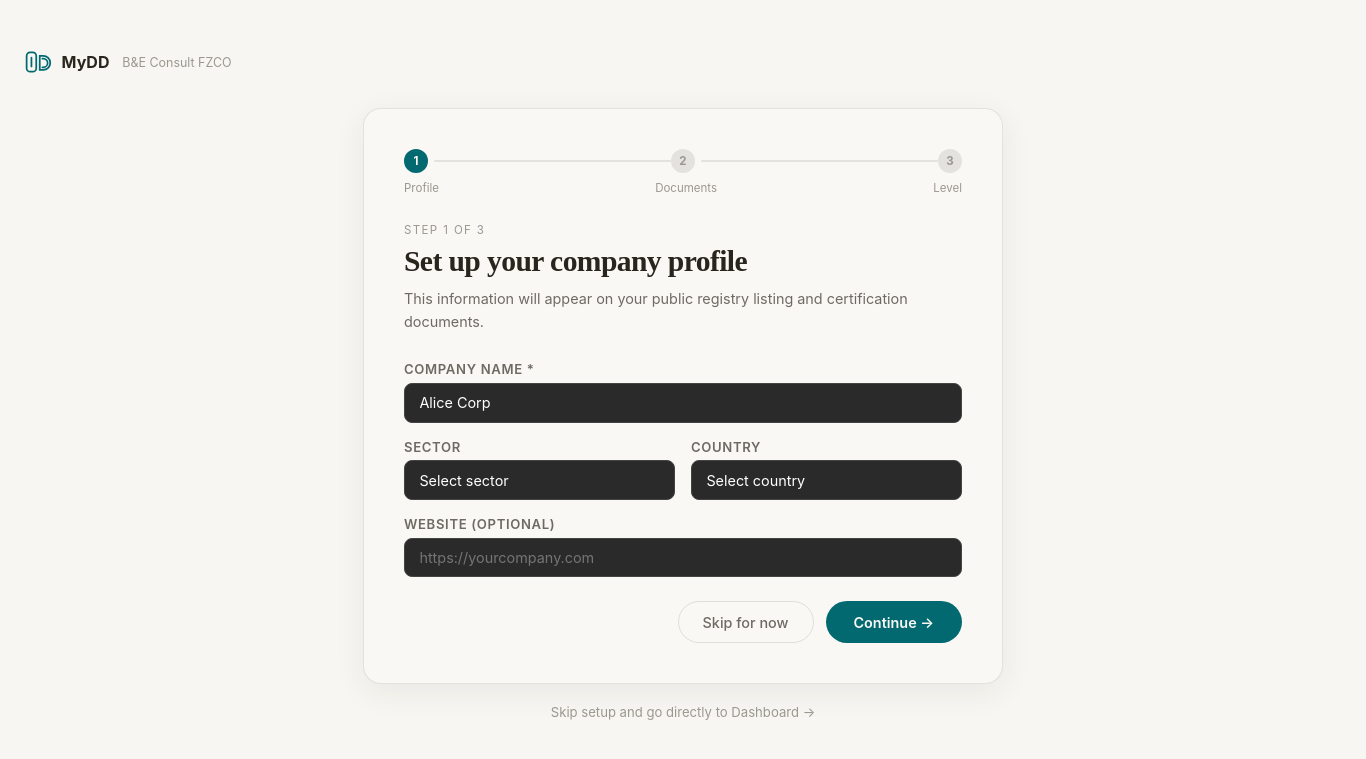
Test: Onboarding — Step 1: Profile › shows validation error when company name is empty
Clear name and click Continue
Clear the field with id "ob-name": (683,403) [404,383,962,423]
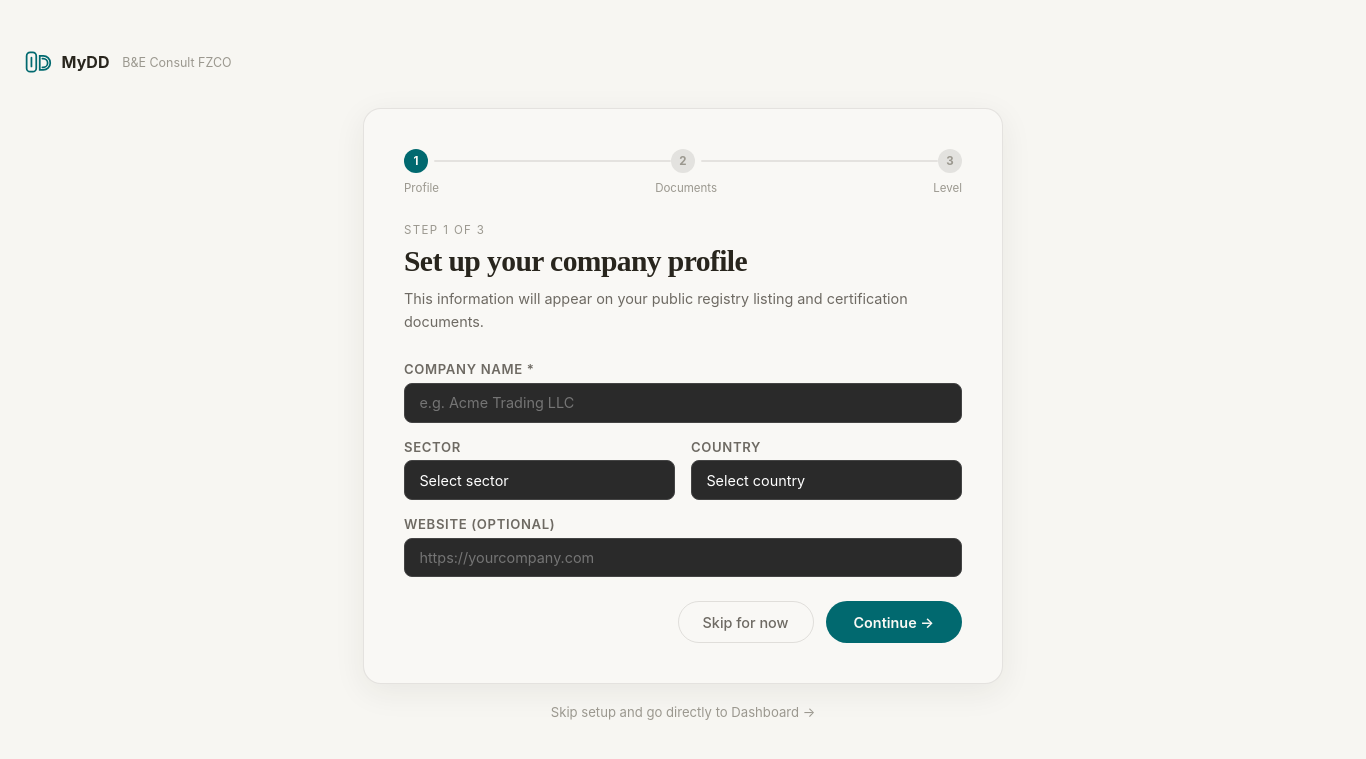
Click the button "Continue →": (894,622) [826,601,962,643]
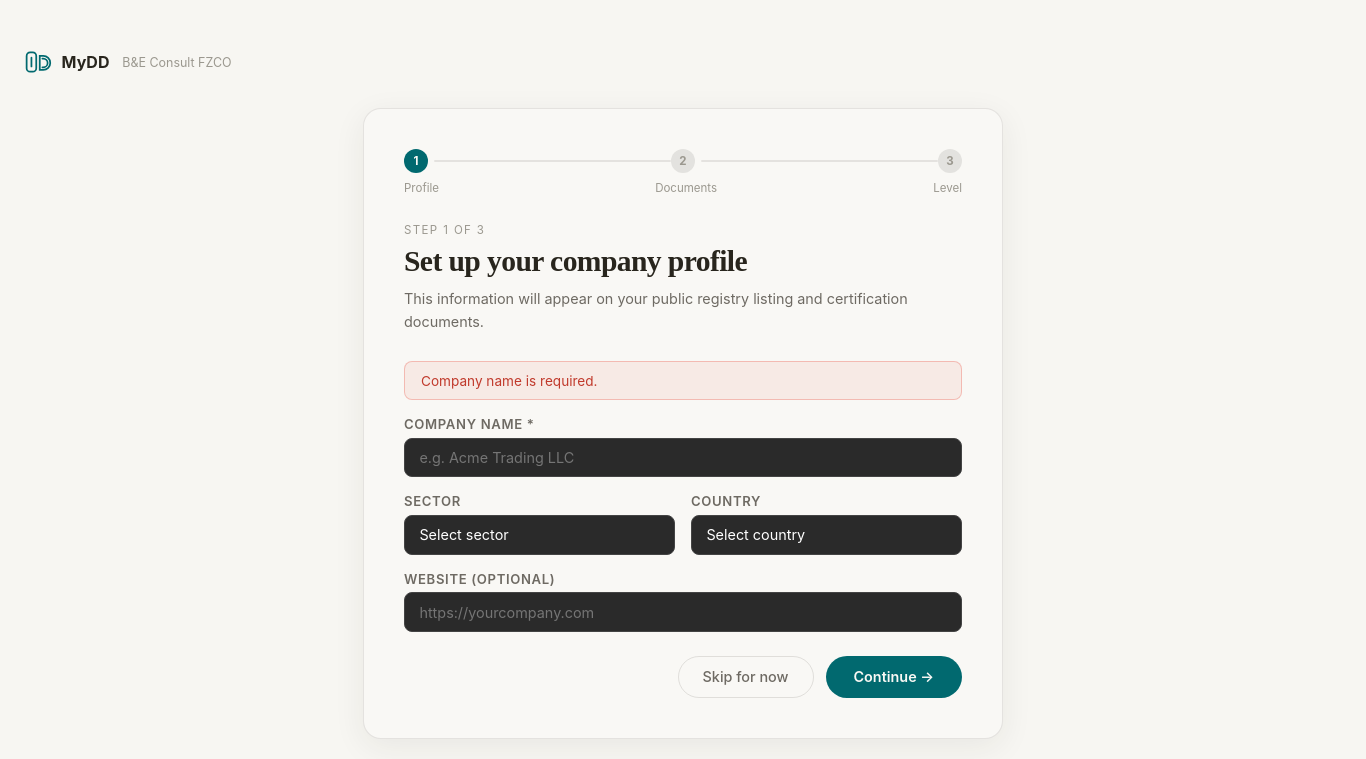
Check: the text "Company name is required." is shown, box [404,361,962,400]
